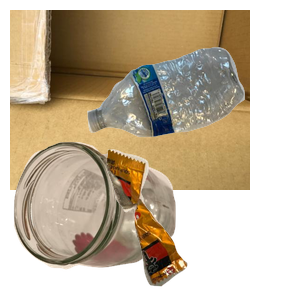cardboard: (10, 10, 250, 190)
glass: (11, 139, 179, 300)
plastic: (85, 45, 300, 175)
trash: (103, 147, 300, 300)
